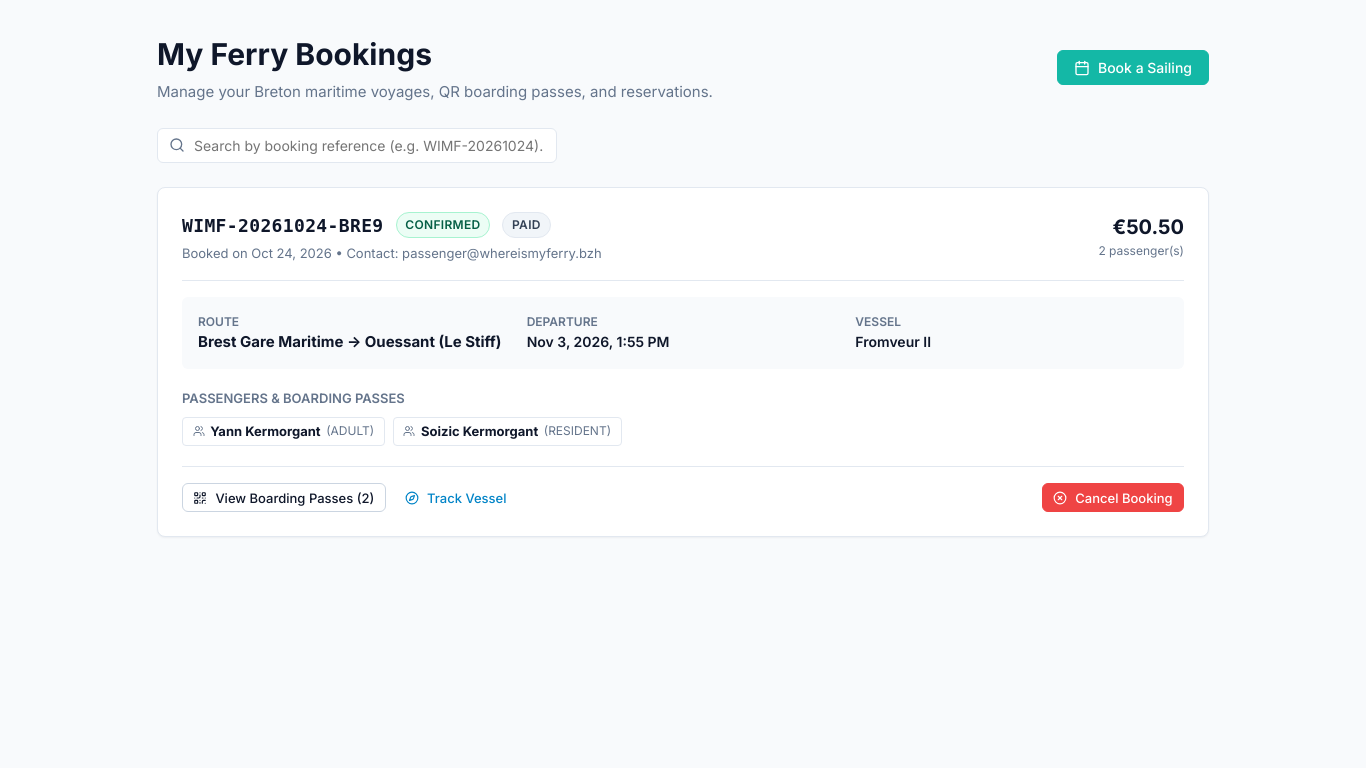
Test: BookingsPage Component › opens cancel confirmation modal and updates status to CANCELLED
Click the button "Cancel Booking" at (1113,498), box [1042,483,1184,512]
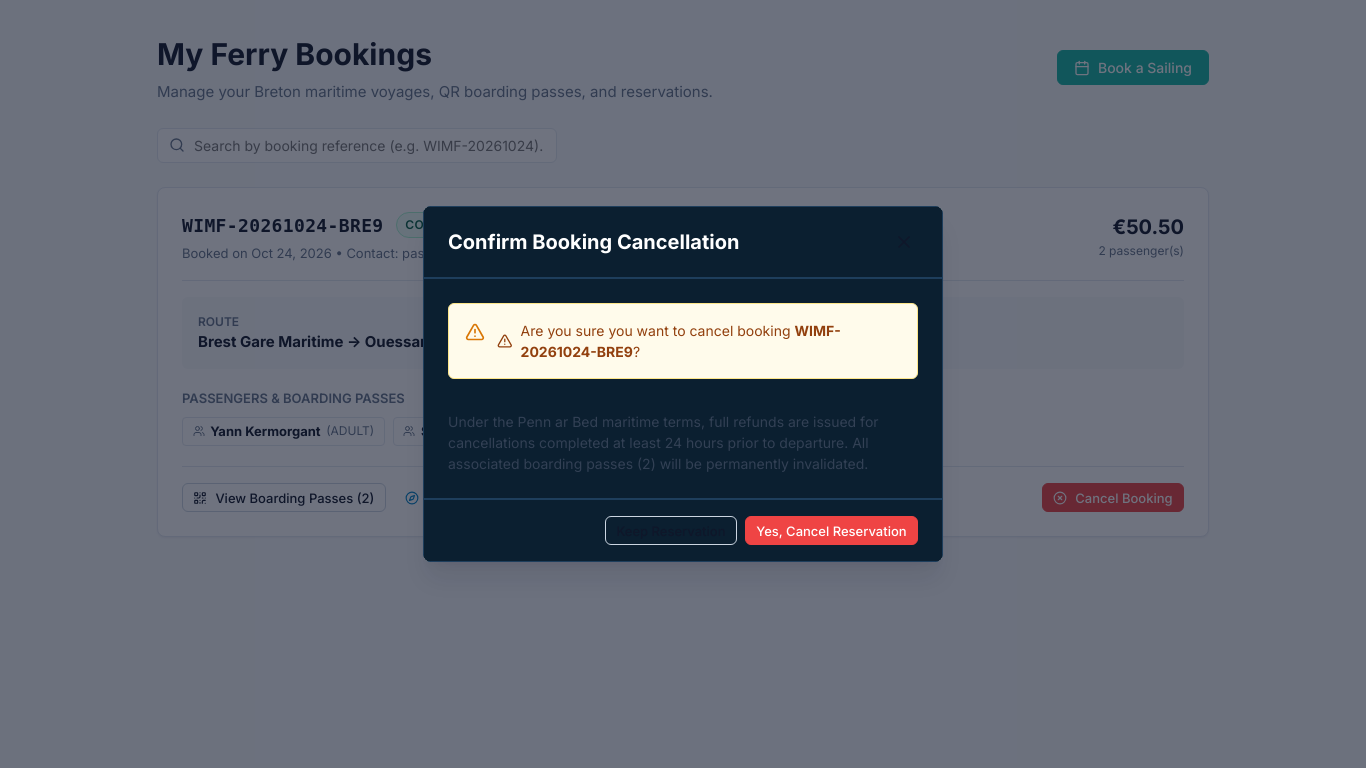
Now the heading "Confirm Booking Cancellation" is shown, box [448,227,739,257]
Now the text "full refunds are issued for cancellations completed at least 24 hours" is shown, box [448,413,878,472]
Click the button "Yes, Cancel Reservation" at (831,530), box [745,516,918,545]
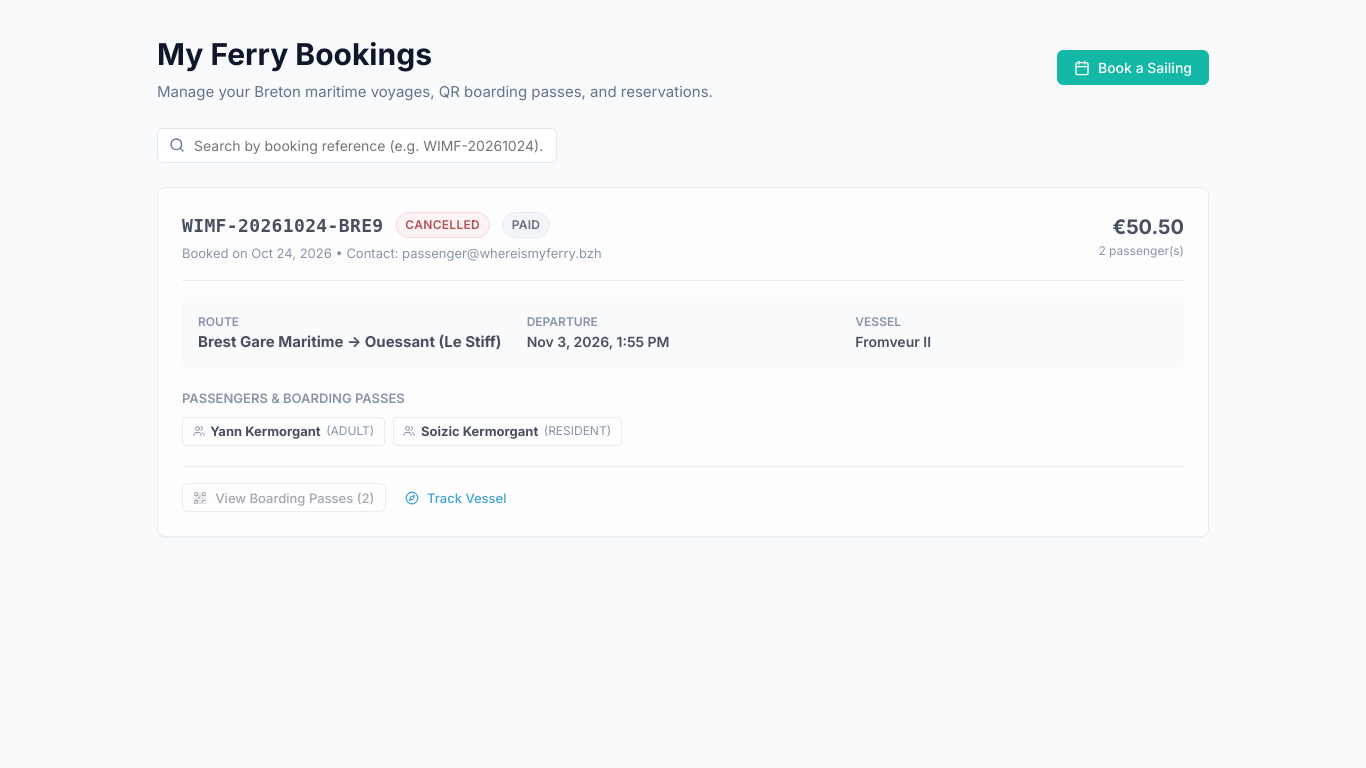
Now the text "CANCELLED" is shown, box [396,212,490,238]
